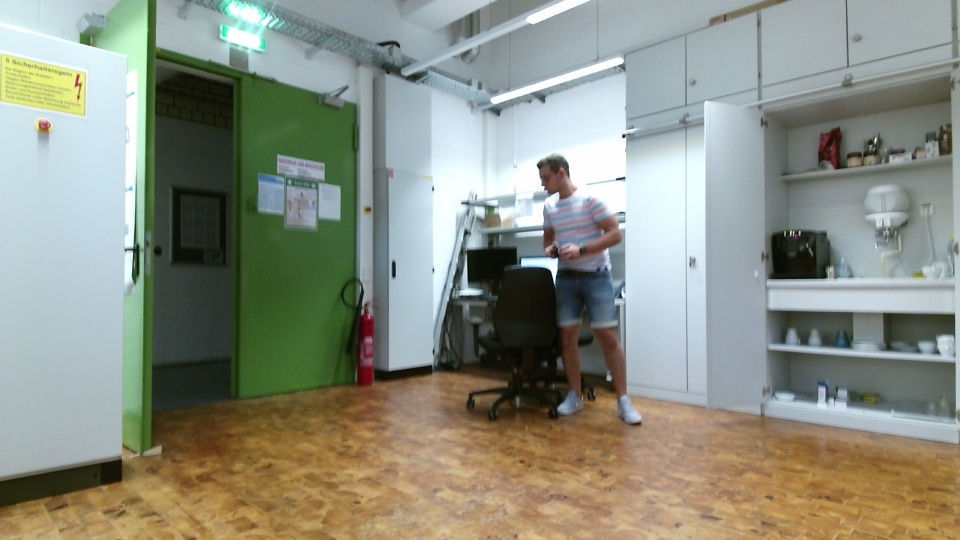person: (532, 150, 643, 435)
